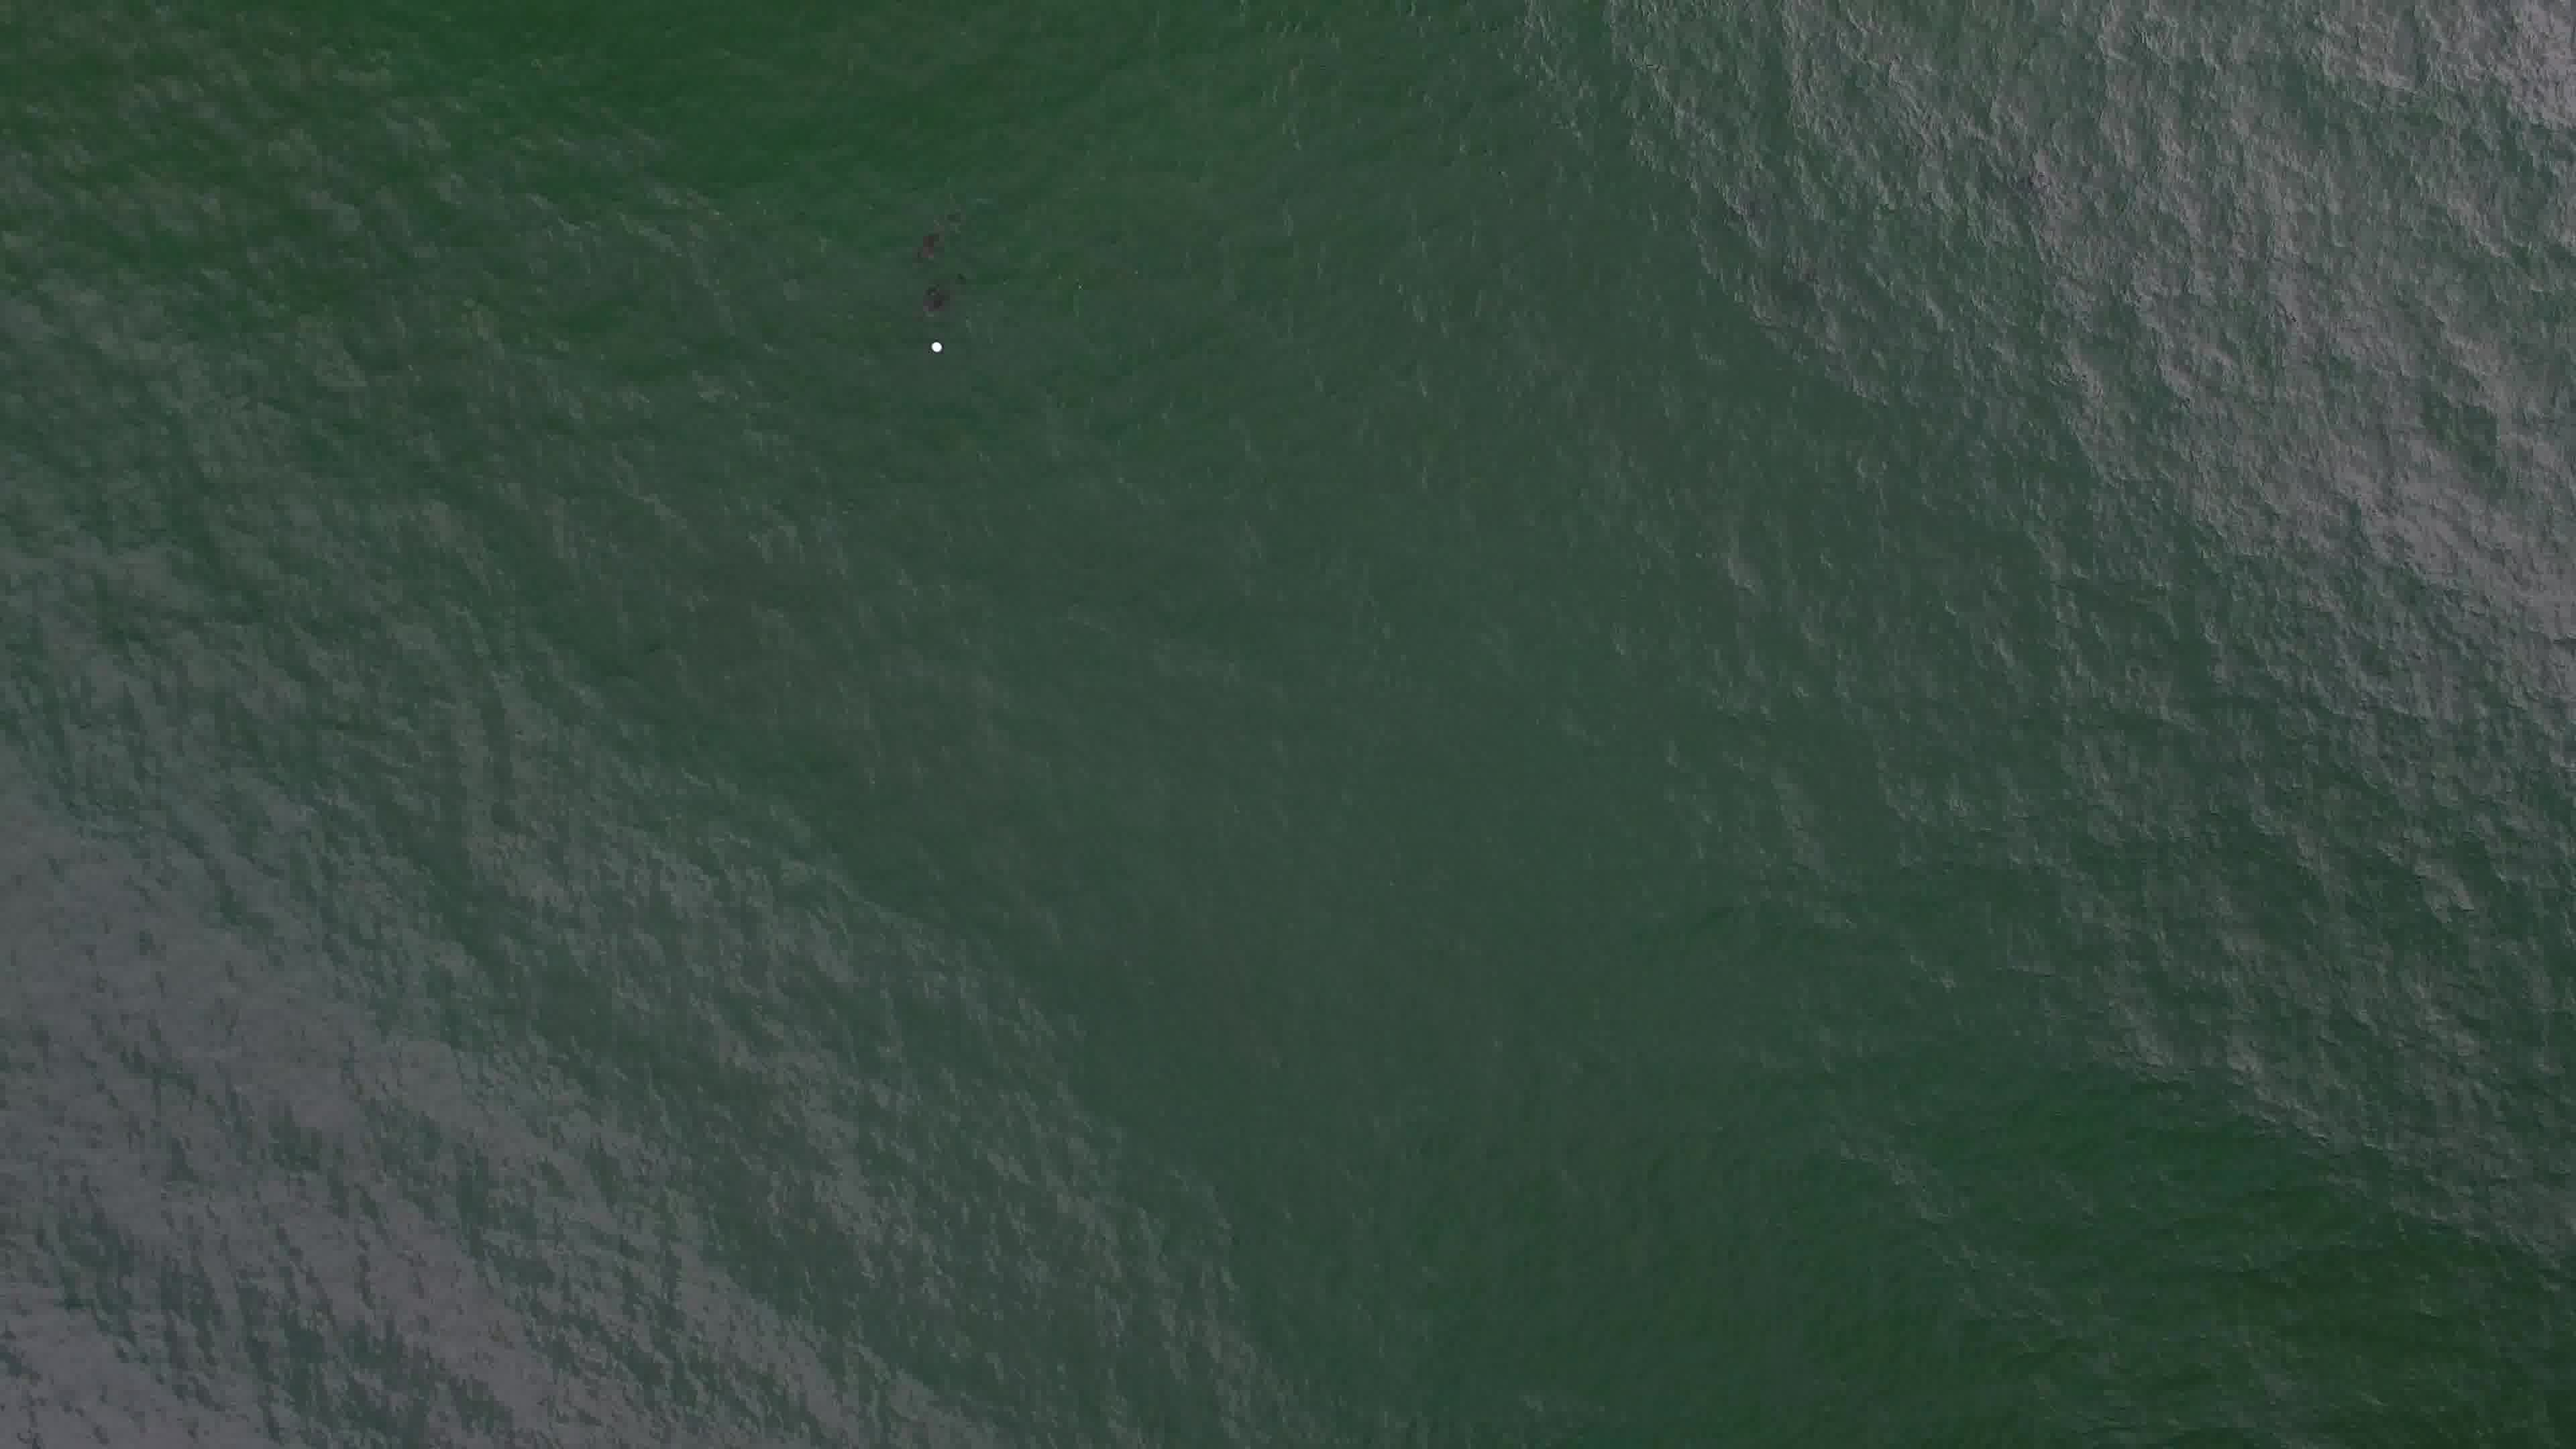dolphin: (888, 244, 982, 318), (893, 188, 973, 260)
